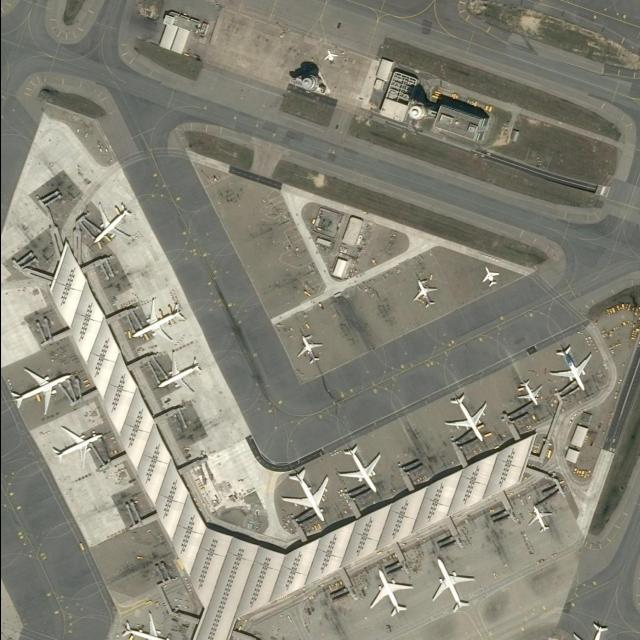Aircraft: (4, 363, 70, 416), (7, 365, 72, 416), (275, 464, 330, 524), (125, 296, 187, 344), (279, 466, 329, 522), (426, 554, 473, 613), (334, 439, 382, 495), (442, 389, 490, 445), (47, 422, 104, 468), (428, 555, 474, 612), (545, 340, 593, 394), (365, 564, 413, 618), (128, 297, 184, 343), (47, 424, 102, 468), (442, 390, 488, 442), (366, 567, 412, 618), (87, 197, 134, 246), (337, 444, 383, 494), (548, 342, 592, 391), (152, 352, 202, 394), (155, 353, 203, 395), (89, 200, 133, 245), (118, 608, 173, 640), (119, 610, 173, 640), (566, 616, 617, 640), (513, 370, 543, 410), (409, 272, 435, 310), (570, 619, 617, 640), (294, 332, 323, 366), (294, 333, 322, 365), (410, 277, 437, 309), (526, 500, 550, 534), (515, 377, 542, 407), (526, 503, 552, 533), (477, 261, 499, 289), (479, 264, 499, 288), (322, 48, 337, 64)
